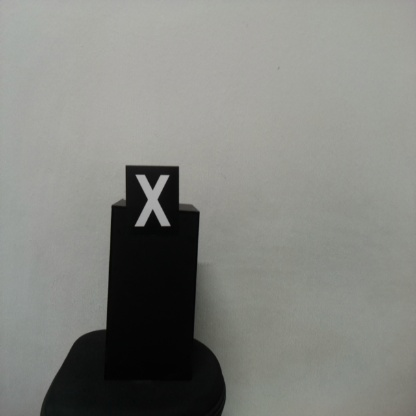id_13: (125, 165, 180, 237)
